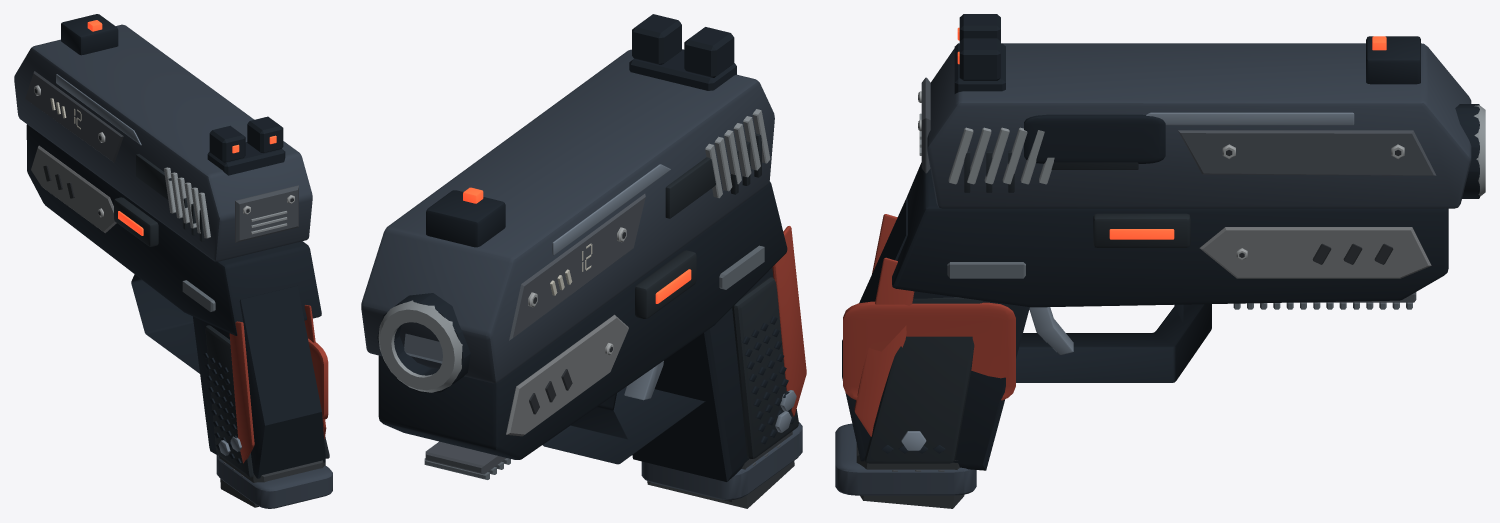
Rendered from pistol.glb.
The picture shows the model from 3 angles, left to right: view 1: azimuth 30°, elevation 25°; view 2: azimuth 150°, elevation 25°; view 3: azimuth 270°, elevation 25°; orthographic projection. The views are drawn at different scales.
Visible parts, largest first — view 1: body, slide, mag; view 2: slide, body, mag, trigger; view 3: body, slide, mag, trigger.
Part boxes in pixels (left/top/right/bottom): body: left=26, top=124, right=329, bottom=478; slide: left=14, top=14, right=312, bottom=261; mag: left=216, top=455, right=332, bottom=508; slide: left=361, top=14, right=774, bottom=383; body: left=377, top=181, right=806, bottom=481; mag: left=641, top=422, right=802, bottom=508; trigger: left=624, top=361, right=663, bottom=400; body: left=842, top=104, right=1485, bottom=470; slide: left=918, top=14, right=1471, bottom=208; mag: left=835, top=423, right=976, bottom=508; trigger: left=1029, top=307, right=1073, bottom=354.
Size of the model in its own units: 0.1308 by 0.3884 by 0.5046.
